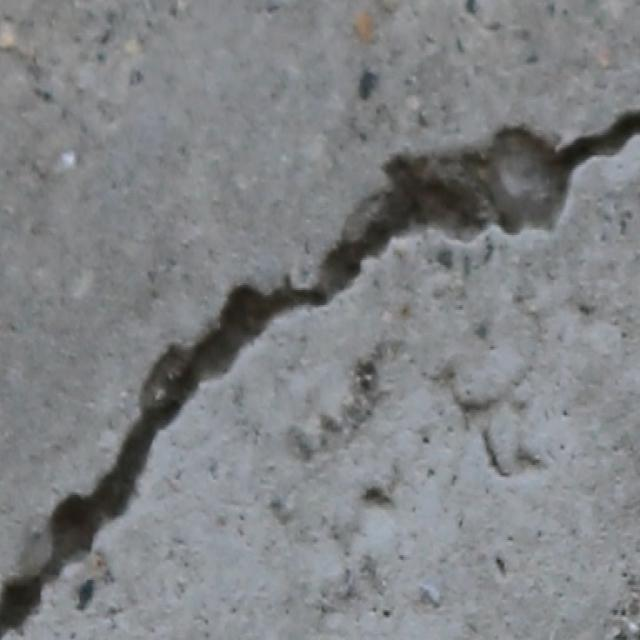crack: (0, 104, 638, 637)
